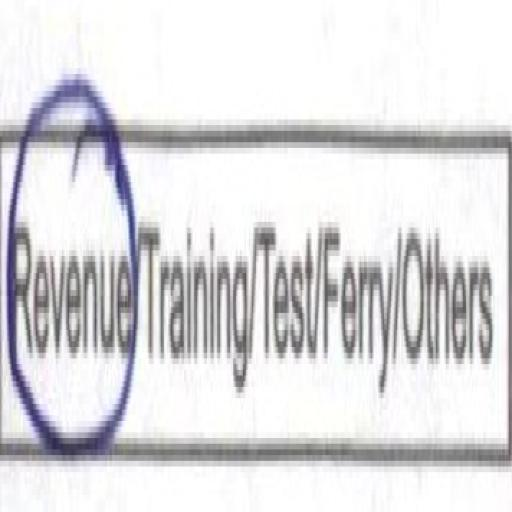check: (3, 68, 140, 500)
